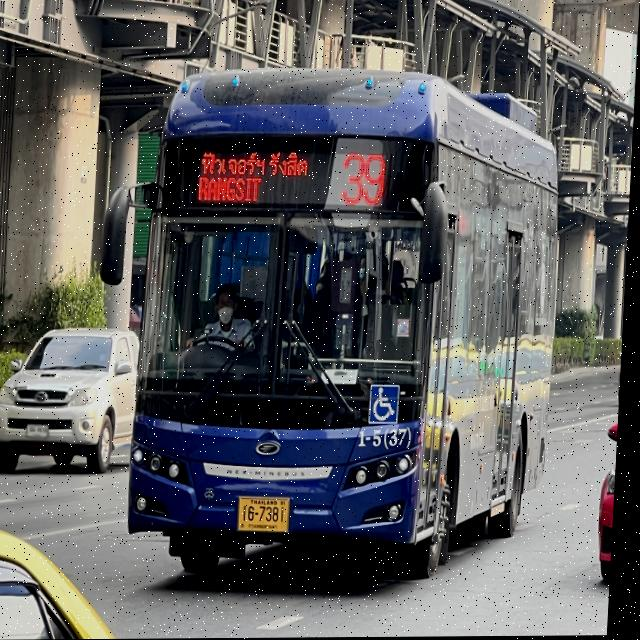Bus-Line-Number: (341, 149, 392, 211)
Destination-Sign-Normal: (194, 146, 326, 214)
TSB-Bus: (127, 56, 576, 581)
